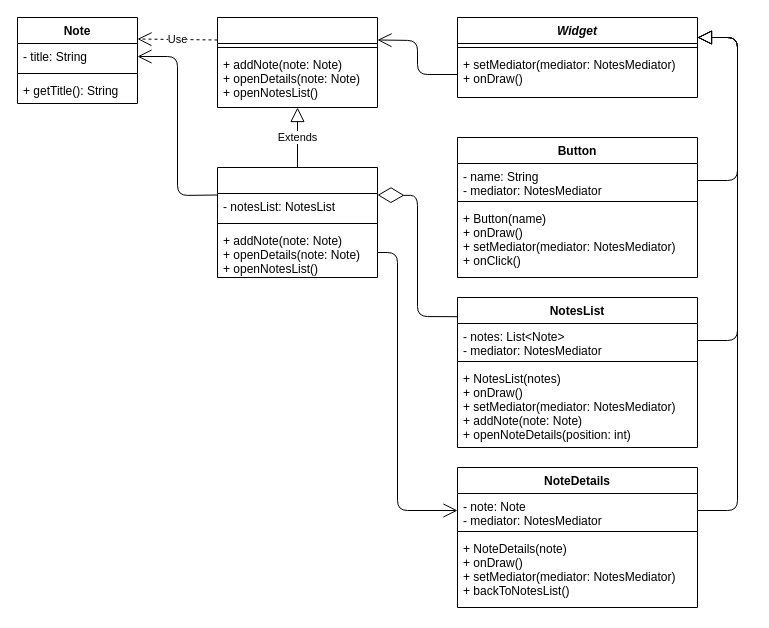
Some shapes in this 769 by 628 pixel diagram are drawn without their labels. The shapes that lost their labels are listed below. From the top down, each one's box as (x1, y1, x2, y2) in pixels, then its label:
(216, 16, 378, 108): NotesMediator
(216, 166, 378, 278): NotesMediatorImpl
